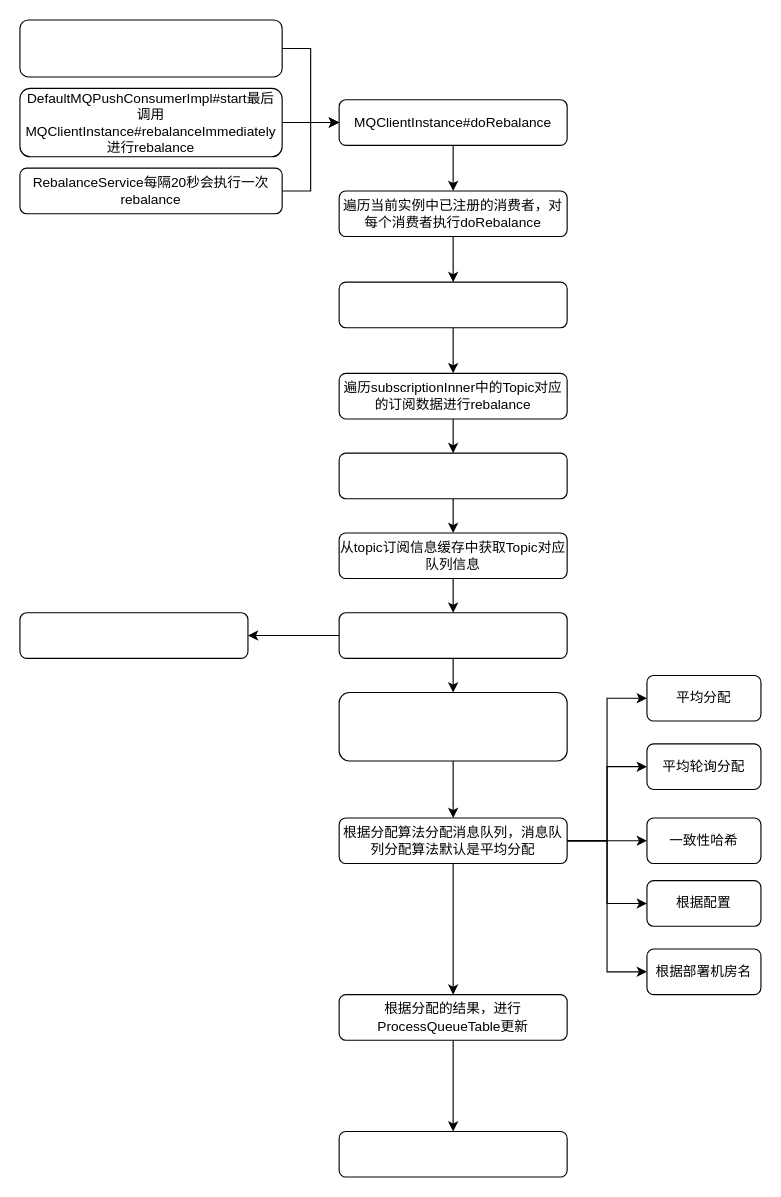
The diagram is 781 pixels wide and 1197 high, and some of its shapes have lost their labels. The centre of each missing label's shape, as x and y in pixels:
"Consumer收到 NOTIFY_CONSUMER_IDS_CHANGED 请求后进rebalance" goes at point 150,48.
"RebalanceImpl#doRebalance" goes at point 452,304.
"RebalanceImpl#rebalanceByTopic 集群模式" goes at point 452,475.
"rebalance后有变化的话，更新订阅数据版本，发送心跳通知所有Broker" goes at point 452,1153.
"从Broker中获取消费组内所有Consumer客户端id" goes at point 452,635.
"将topic对应队列和Broker上获取的消费者id进行排序，保证同一消费组内看到的视图保持一致" goes at point 452,726.
